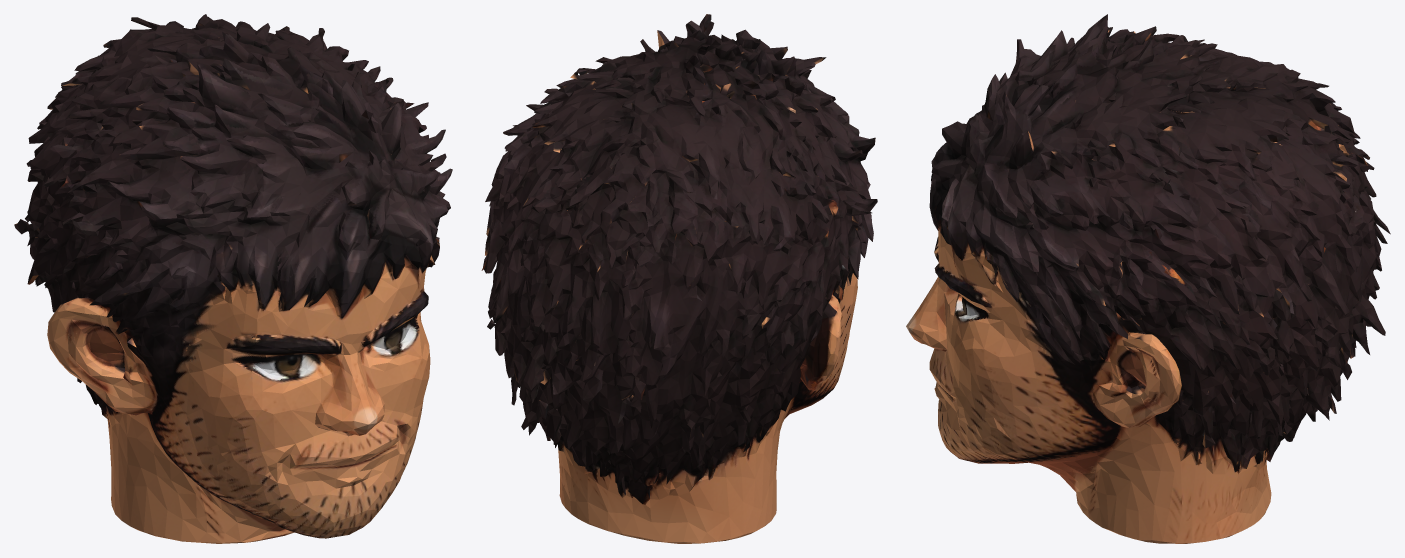
Rendered from side_muledriver_repaired_atlas.glb.
3 views of the same model, side by side, from view 1: azimuth 30°, elevation 25°; view 2: azimuth 150°, elevation 25°; view 3: azimuth 270°, elevation 25° (orthographic). The views are drawn at different scales.
Parts seen in each view (by area): view 1: temp_mesh.ply; view 2: temp_mesh.ply; view 3: temp_mesh.ply.
Part boxes in pixels (x1,y1,x2,y2): temp_mesh.ply: (14,14,452,543); temp_mesh.ply: (481,14,877,543); temp_mesh.ply: (906,14,1390,543).
Size of the model in its own units: 1.17 by 1.43 by 1.38.
1 material, 1 textured.
